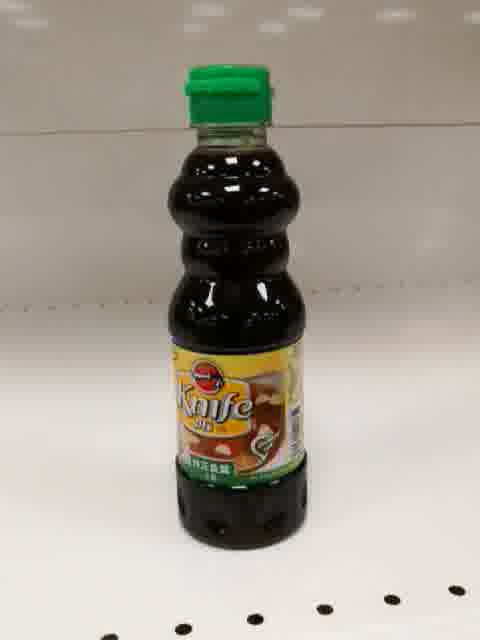cookingoil: (166, 63, 309, 551)
